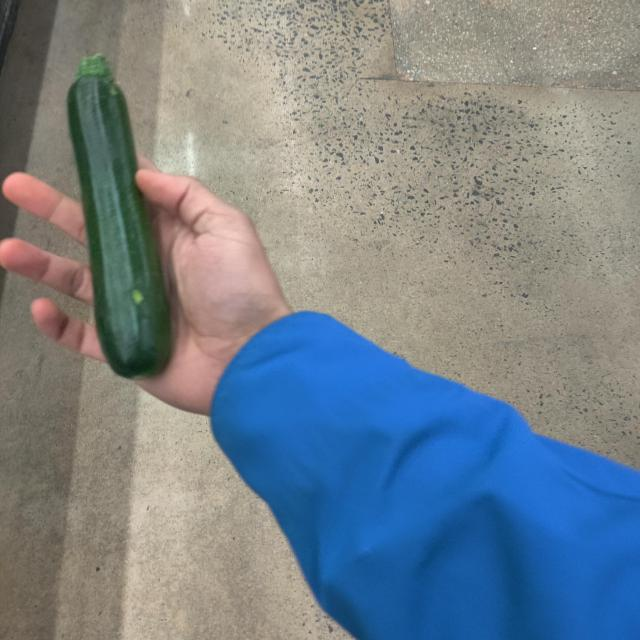Zucchini: (35, 54, 201, 402)
